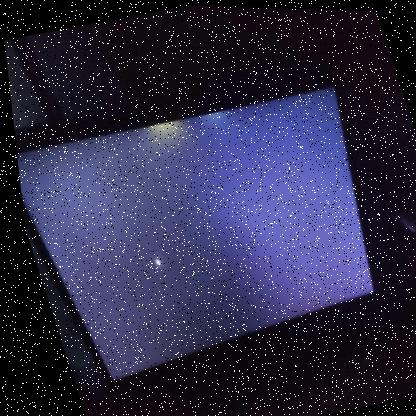spot: (142, 248, 161, 272)
